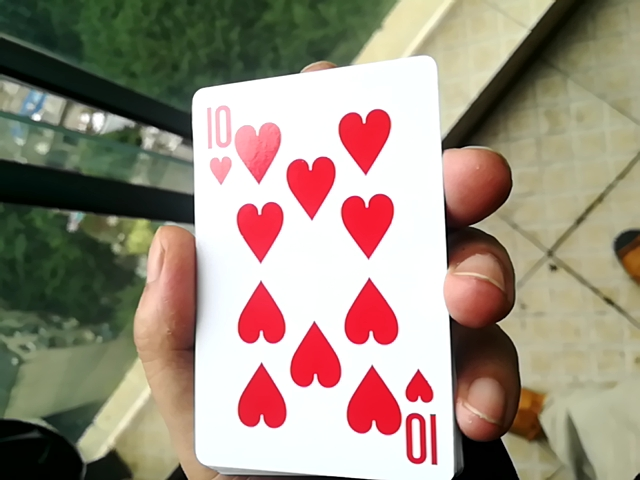hx 10: (179, 40, 455, 474)
